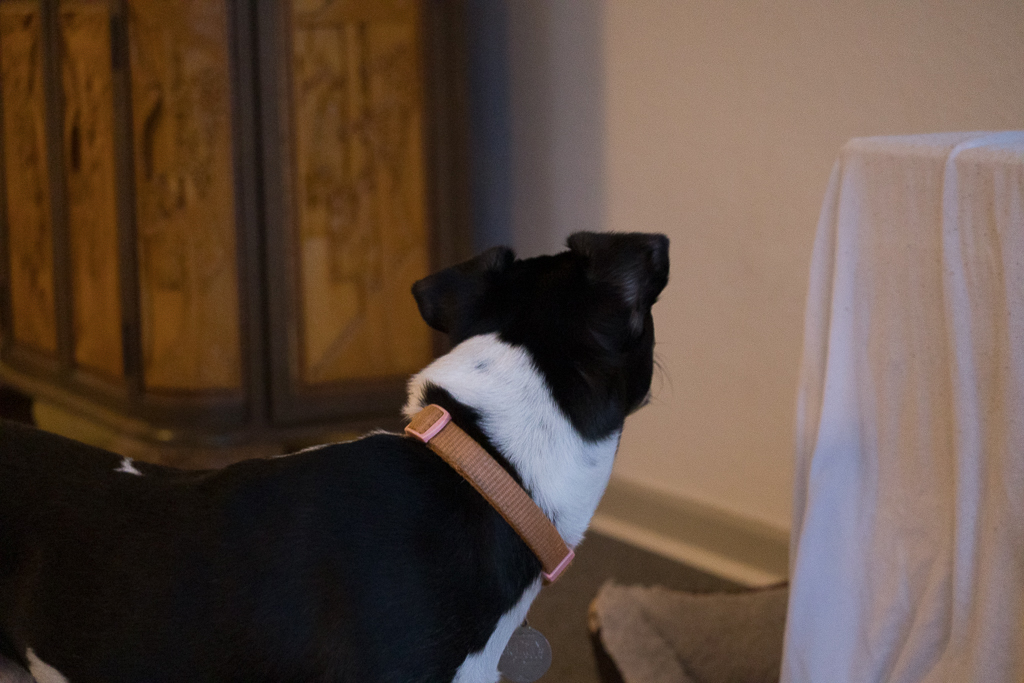Dog: (0, 223, 683, 683)
